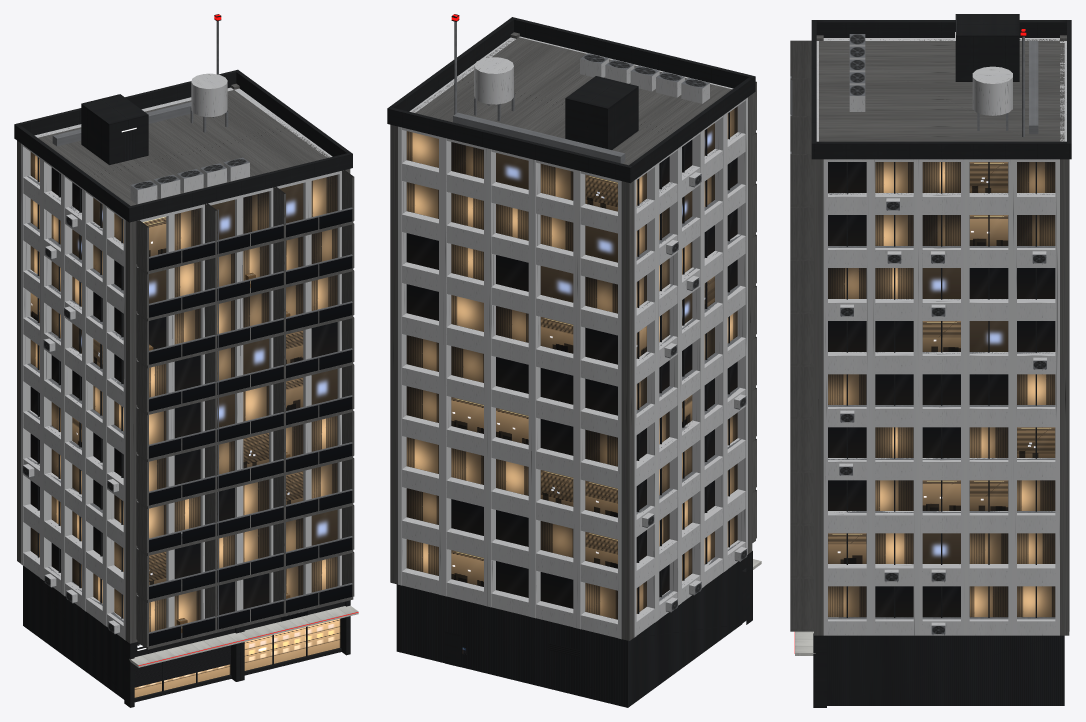
File: SM_INFD_BlockB_1.fbx
3 renders of one model, left to right at view 1: azimuth 30°, elevation 25°; view 2: azimuth 150°, elevation 25°; view 3: azimuth 270°, elevation 25°, orthographic. The views are drawn at different scales.
Parts seen in each view (by area): view 1: SM_INFD_BlockB_1_LOD0; view 2: SM_INFD_BlockB_1_LOD0; view 3: SM_INFD_BlockB_1_LOD0.
Part boxes in pixels (box(x1,y1,x2,y2)): SM_INFD_BlockB_1_LOD0: box(14, 14, 358, 707); SM_INFD_BlockB_1_LOD0: box(387, 14, 761, 707); SM_INFD_BlockB_1_LOD0: box(790, 14, 1071, 707).
Size of what is drawn, in the model's own units: 18.9 by 45.35 by 17.65.
